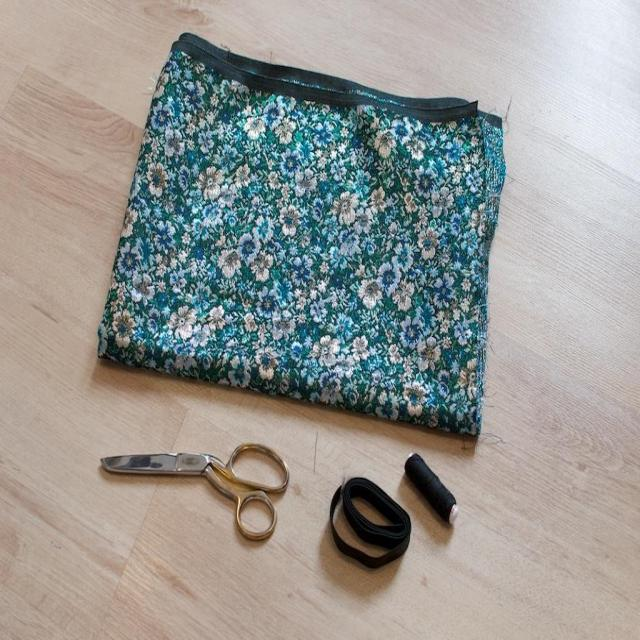scissor: (100, 437, 292, 549)
